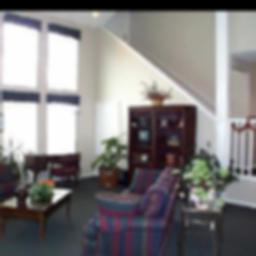Matera: (90, 133, 121, 184)
